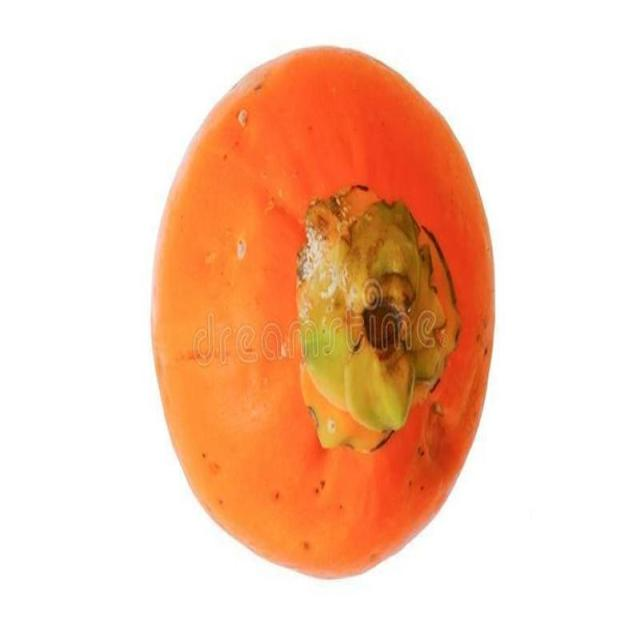good: (155, 55, 489, 579)
